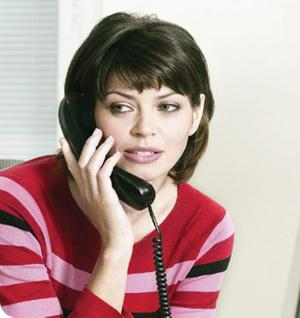person: (4, 13, 234, 318)
